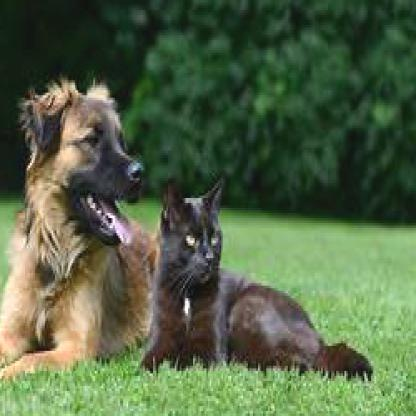cat: (138, 175, 376, 371)
dog: (0, 82, 152, 374)
